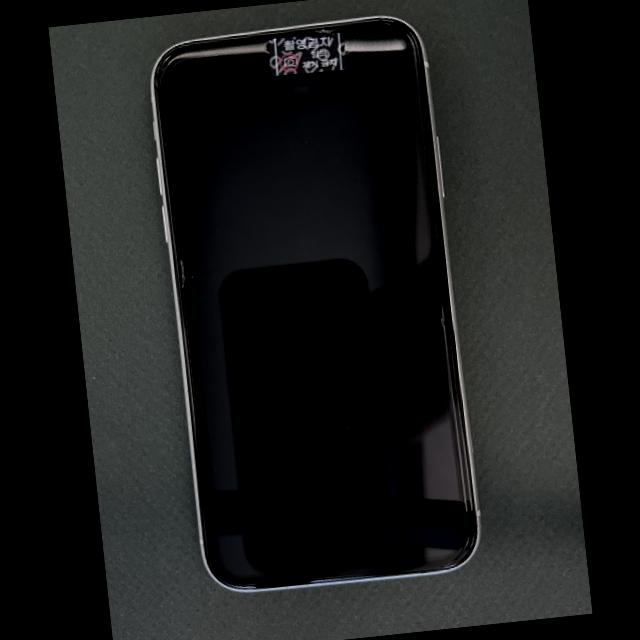phone: (150, 15, 481, 592)
sticker: (268, 32, 348, 76)
